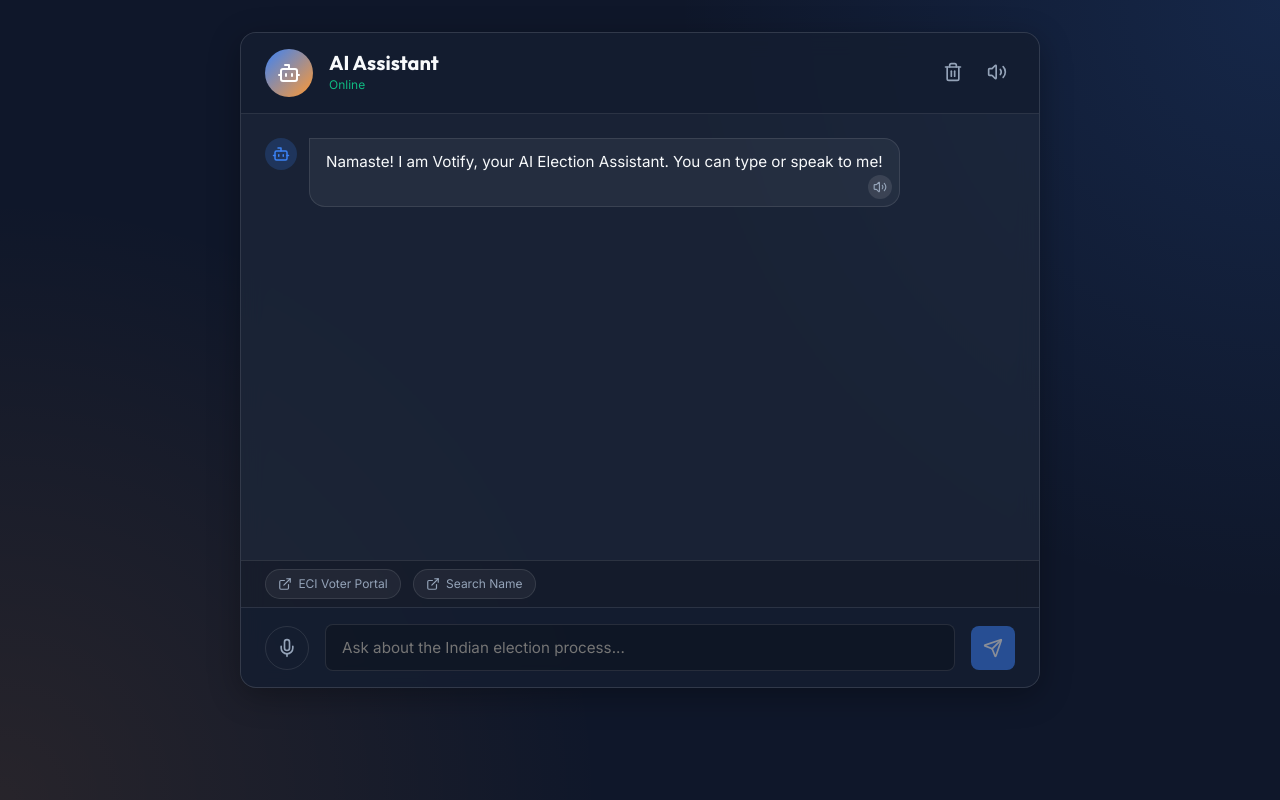
Test: ChatAssistant Component › can type and send a message
The image size is (1280, 800).
In the field with placeholder "Ask about the Indian election process...": (640, 648) [325,624,955,671], type "How to vote?"
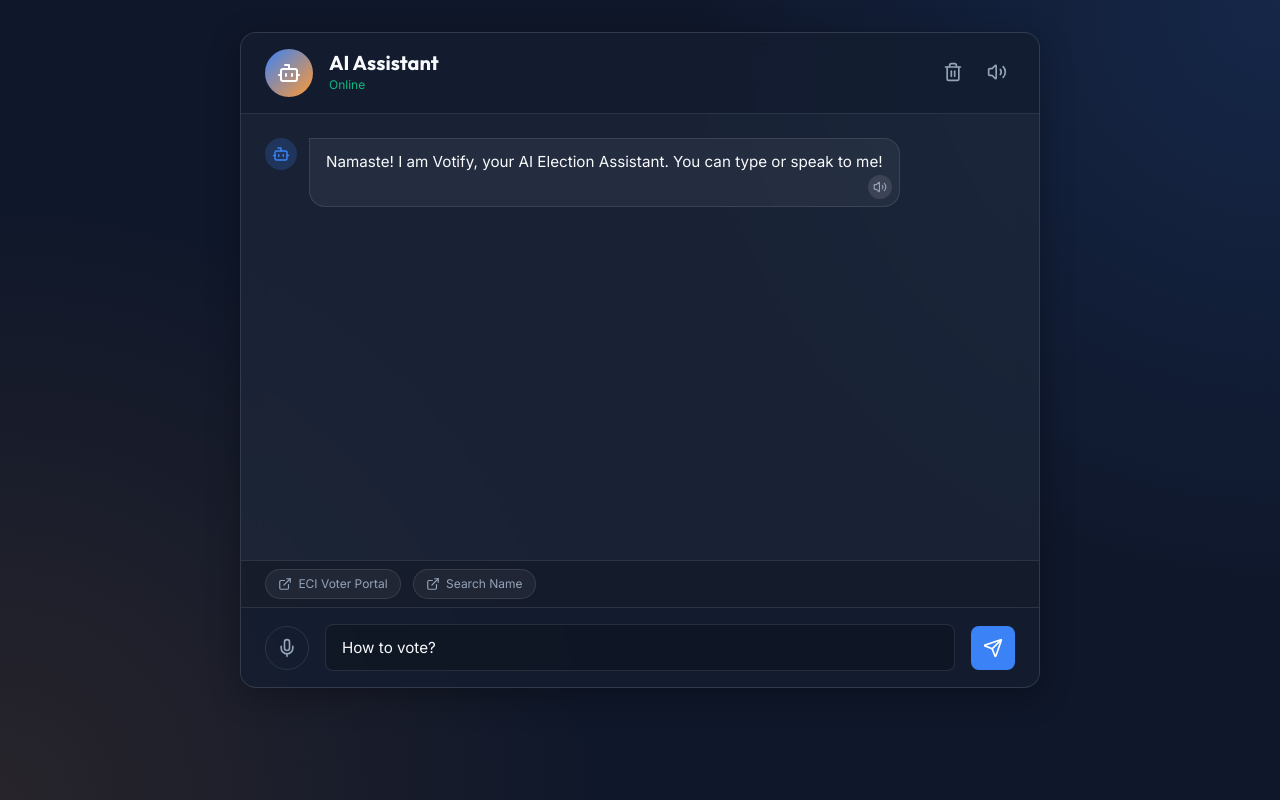
Submit the form with placeholder "Ask about the Indian election process", box [241,607,1039,687]
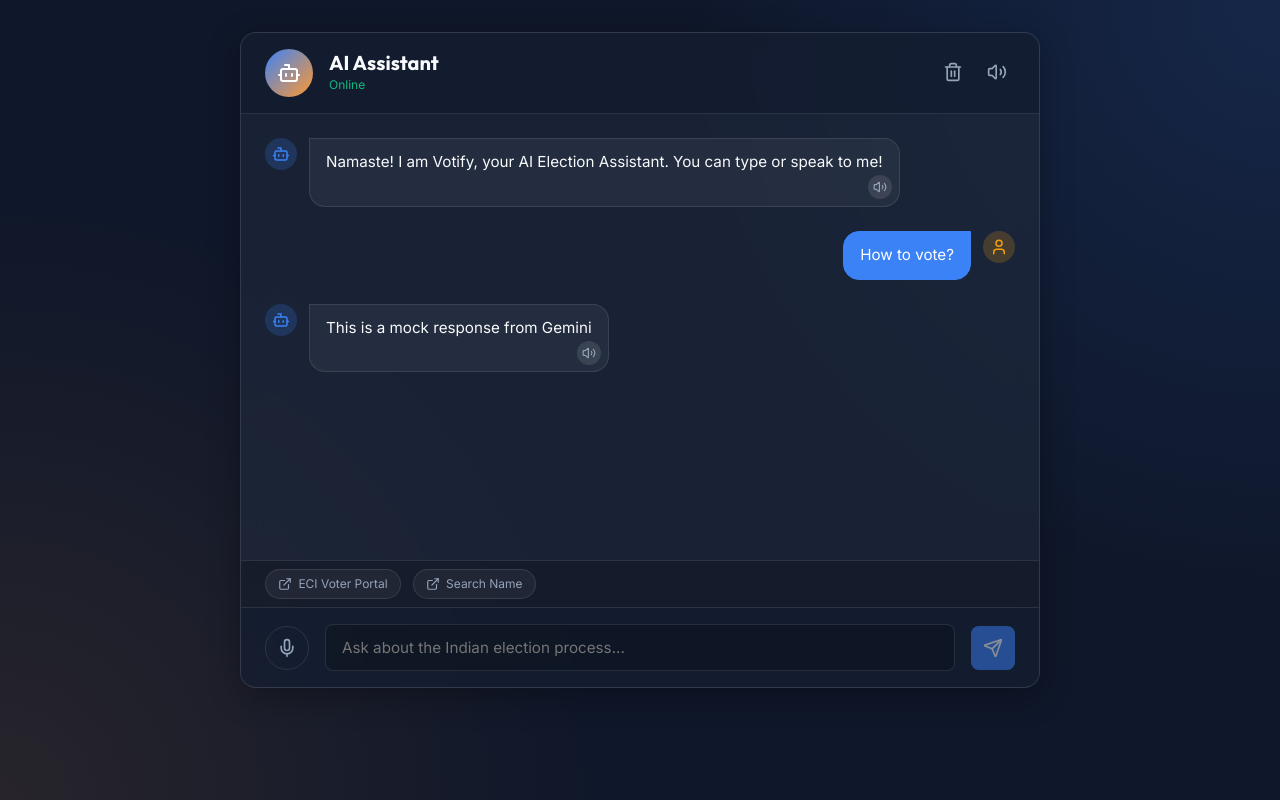
expect the text "How to vote?" is shown: met, box [860,245,954,264]
expect the text "This is a mock response from Gemini" is shown: met, box [326,318,592,337]
